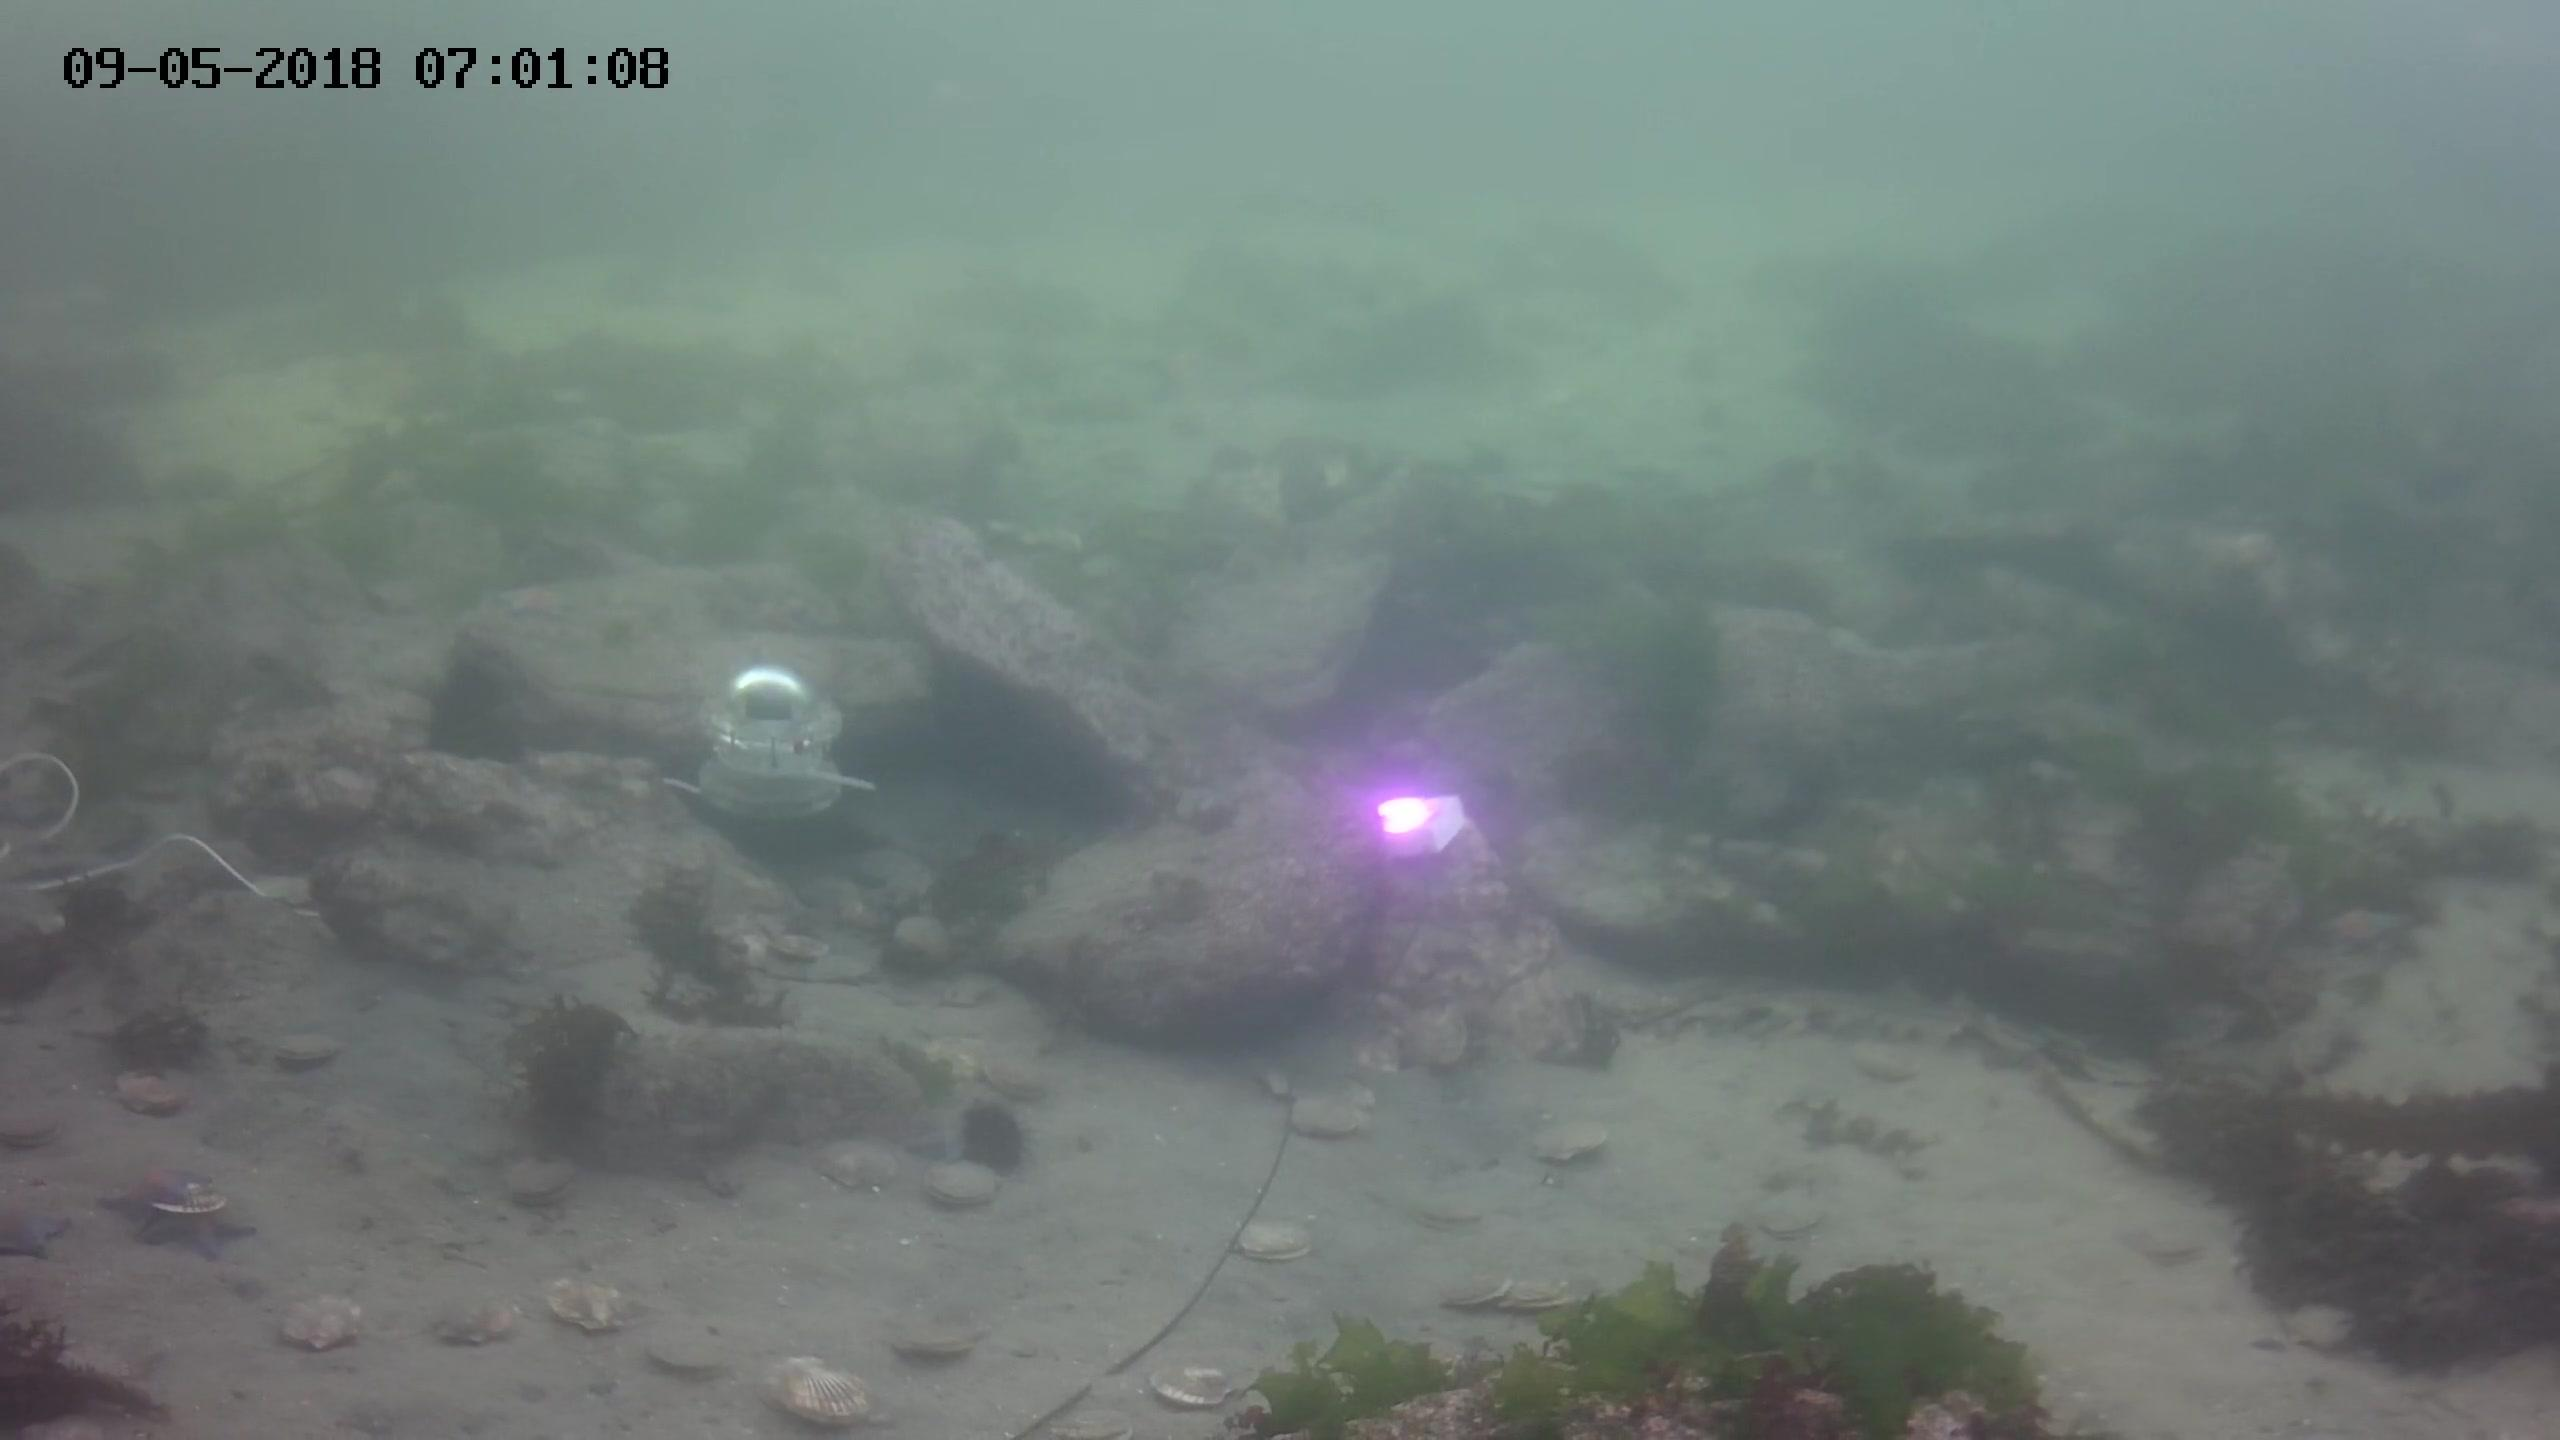echinus: (949, 1092, 1020, 1162)
scallop: (772, 1361, 877, 1422), (1217, 1210, 1320, 1269), (883, 1317, 990, 1368), (805, 1136, 902, 1190), (547, 1271, 644, 1322), (271, 1294, 355, 1352), (1380, 1016, 1472, 1067), (1145, 1363, 1245, 1408), (904, 1034, 999, 1081), (418, 1298, 517, 1343), (107, 1062, 181, 1122), (1294, 1099, 1384, 1143), (1530, 1122, 1609, 1169), (651, 1338, 733, 1382), (501, 1152, 580, 1197), (992, 1036, 1043, 1104), (2, 1099, 69, 1150), (921, 1173, 1011, 1204), (1500, 1280, 1574, 1317), (1438, 1262, 1498, 1306), (280, 1032, 339, 1067), (156, 1194, 230, 1218)
starfish: (137, 1199, 243, 1252), (113, 1153, 216, 1204), (11, 1194, 69, 1261)
